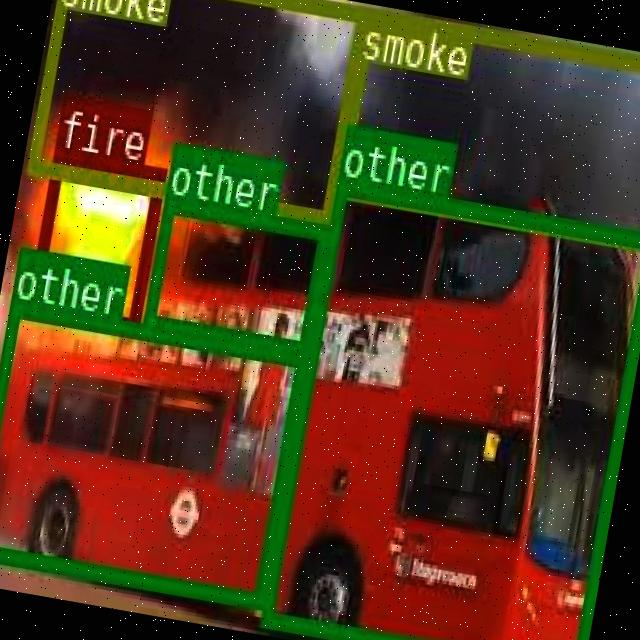fire: (26, 148, 164, 330)
smoke: (331, 3, 640, 249), (24, 0, 366, 222)
